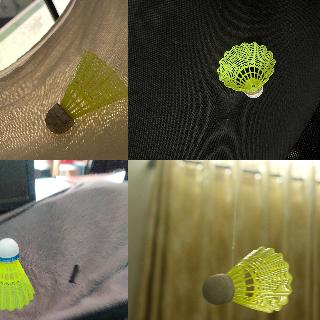shuttlecock: (45, 50, 127, 134), (202, 245, 292, 312), (217, 42, 275, 98), (0, 237, 37, 310)
